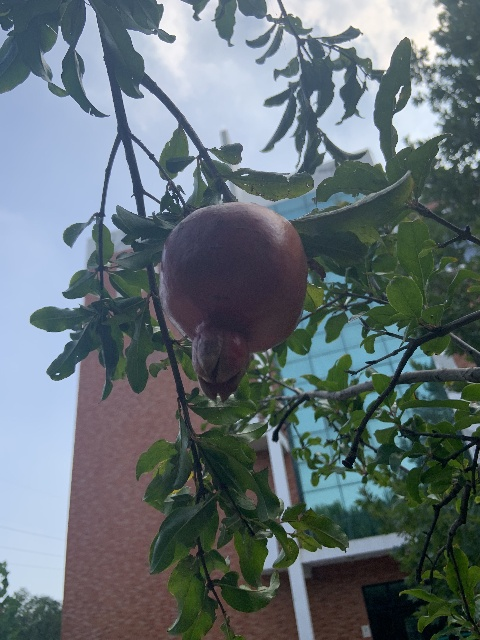ripe: (159, 202, 307, 401)
